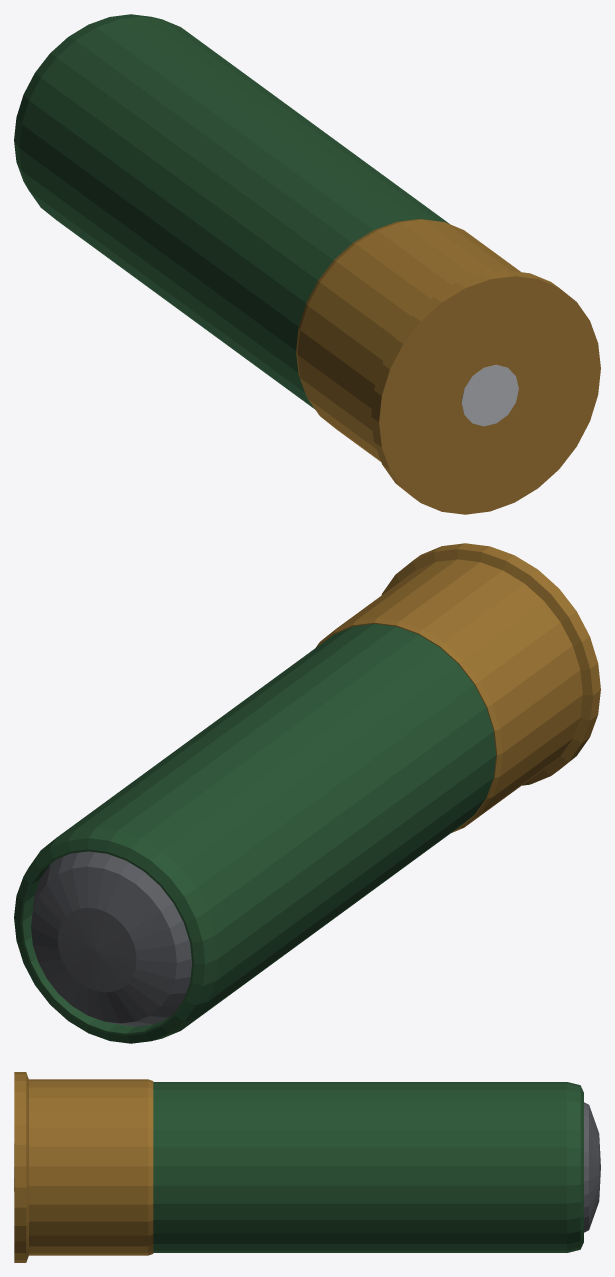
The model's file is municao_12_balote.glb.
3 renders of one model, top to bottom at view 1: azimuth 30°, elevation 25°; view 2: azimuth 150°, elevation 25°; view 3: azimuth 270°, elevation 25°, orthographic. The views are drawn at different scales.
Visible parts, largest first — view 1: municao_12_balote_casca_verde, municao_12_balote_latao, municao_12_balote_aco_inox; view 2: municao_12_balote_casca_verde, municao_12_balote_latao, municao_12_balote_chumbo; view 3: municao_12_balote_casca_verde, municao_12_balote_latao, municao_12_balote_chumbo.
Boxes of the visible parts, x1,y1,x2,y2 form: municao_12_balote_casca_verde: (14,14,449,408); municao_12_balote_latao: (296,219,600,514); municao_12_balote_aco_inox: (461,364,518,426); municao_12_balote_casca_verde: (14,624,496,1043); municao_12_balote_latao: (316,543,600,832); municao_12_balote_chumbo: (31,851,192,1026); municao_12_balote_casca_verde: (153,1082,583,1252); municao_12_balote_latao: (14,1072,153,1262); municao_12_balote_chumbo: (584,1102,600,1232).
Size of the model in its own units: 0.0225 by 0.0225 by 0.0692.
